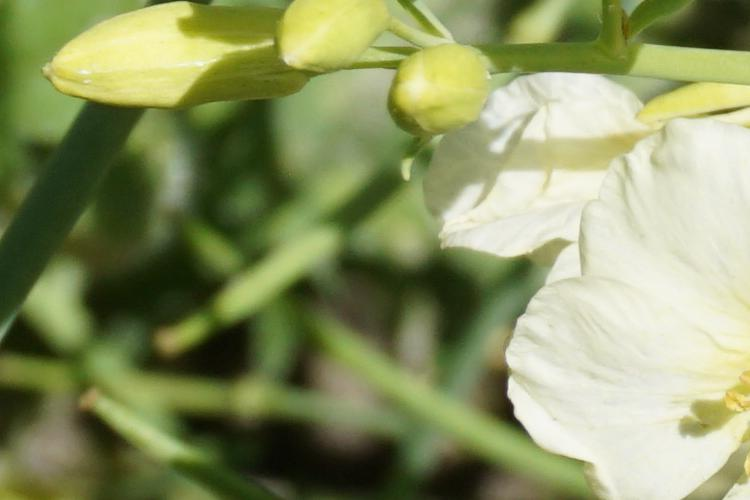bud: (45, 21, 331, 122), (380, 42, 503, 146), (279, 2, 388, 83)
white: (425, 64, 746, 498)
